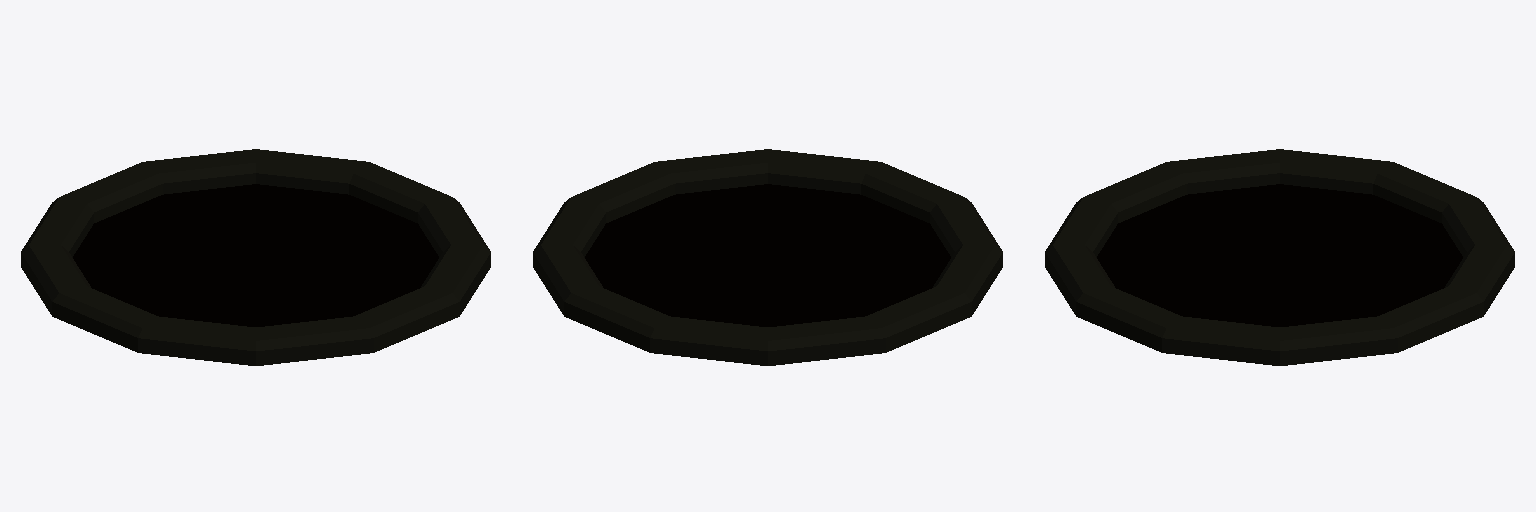
Rendered from FlowerBed4.obj.
3 renders of one model, left to right at view 1: azimuth 30°, elevation 25°; view 2: azimuth 150°, elevation 25°; view 3: azimuth 270°, elevation 25°, orthographic.
Parts seen in each view (by area): view 1: FlowerBed4_Cylinder.008; view 2: FlowerBed4_Cylinder.008; view 3: FlowerBed4_Cylinder.008.
Boxes of the visible parts, <box> form: FlowerBed4_Cylinder.008: <box>21,149,490,365</box>; FlowerBed4_Cylinder.008: <box>533,149,1002,365</box>; FlowerBed4_Cylinder.008: <box>1045,149,1514,365</box>.
Bounding box in the file's own units: 4.42 × 0.2278 × 4.42.